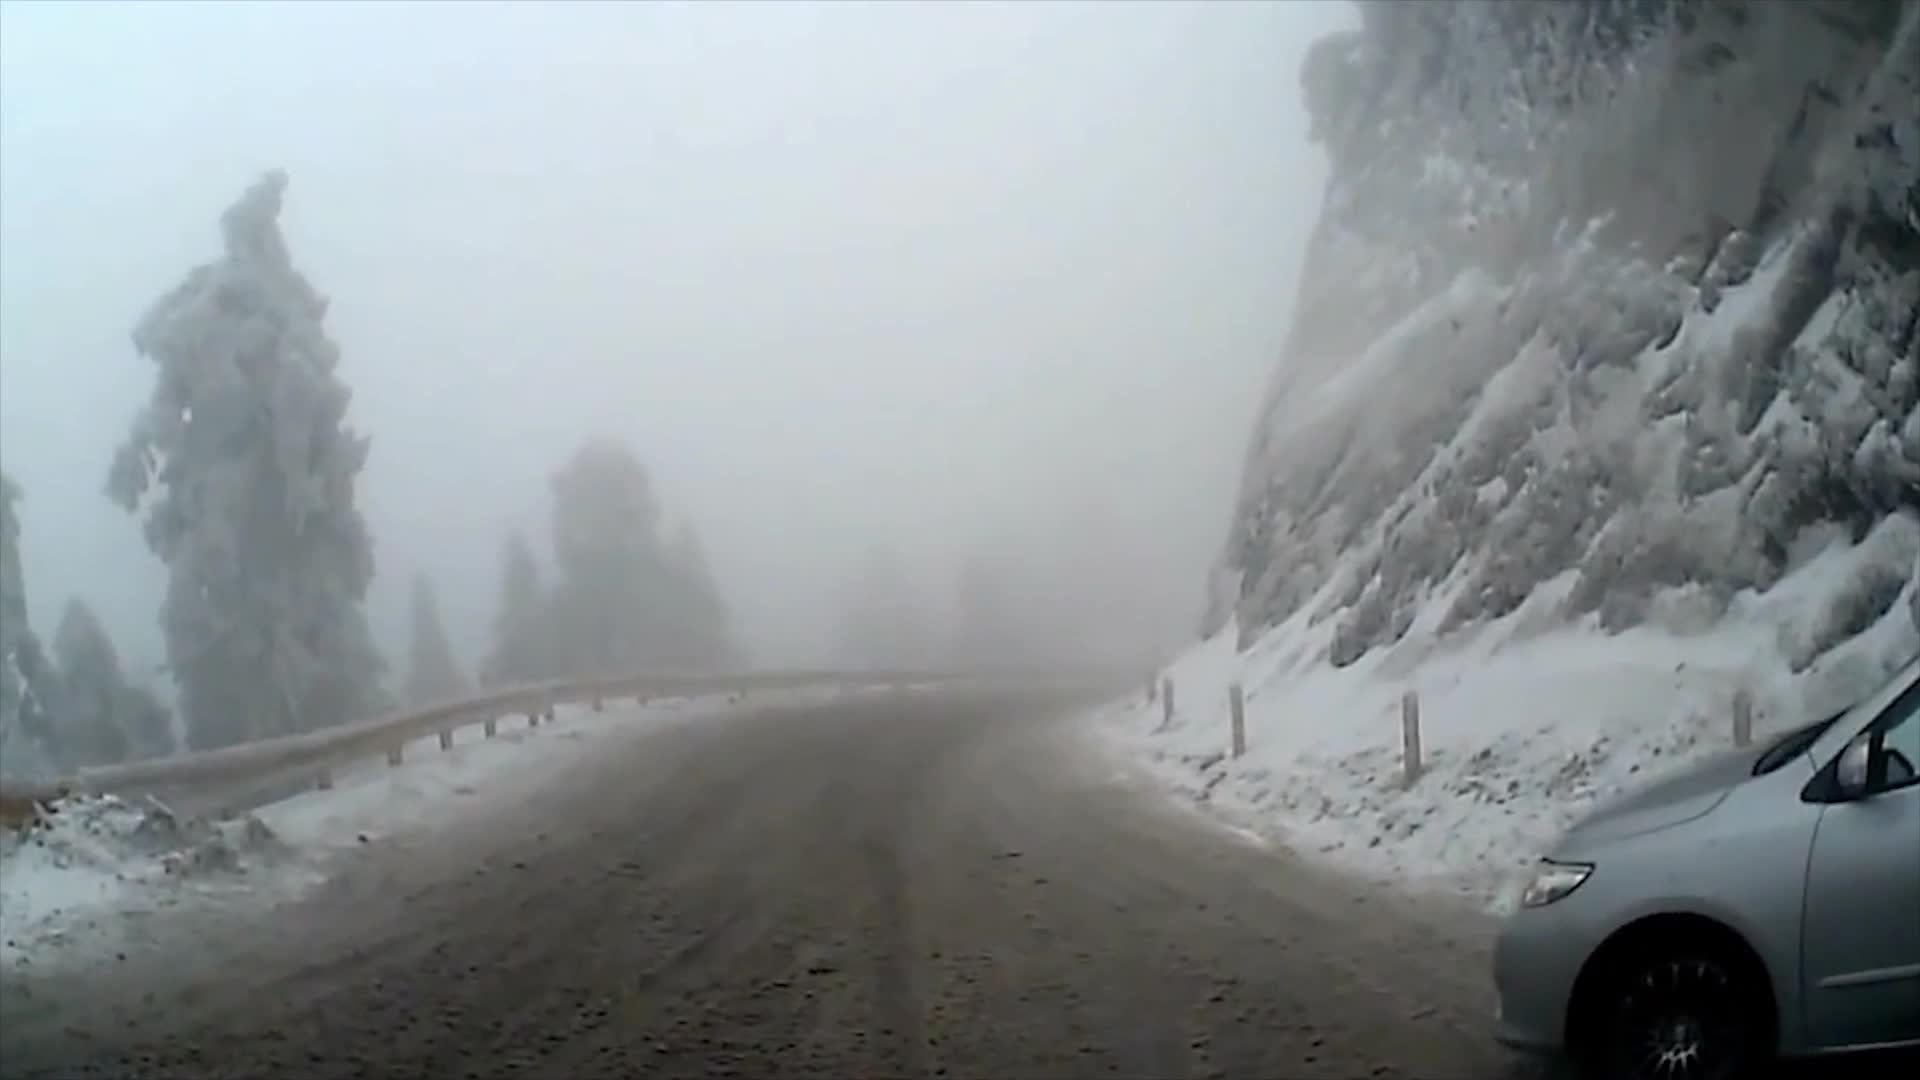vehicle: (1489, 640, 1920, 1080)
